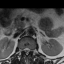CCS_normal: (25, 45, 28, 57)
LFS_stenosis: (30, 45, 33, 54)
LLS_stenosis: (28, 45, 30, 54)
RFS_stenosis: (21, 46, 23, 54)
RLS_normal: (23, 45, 25, 54)
